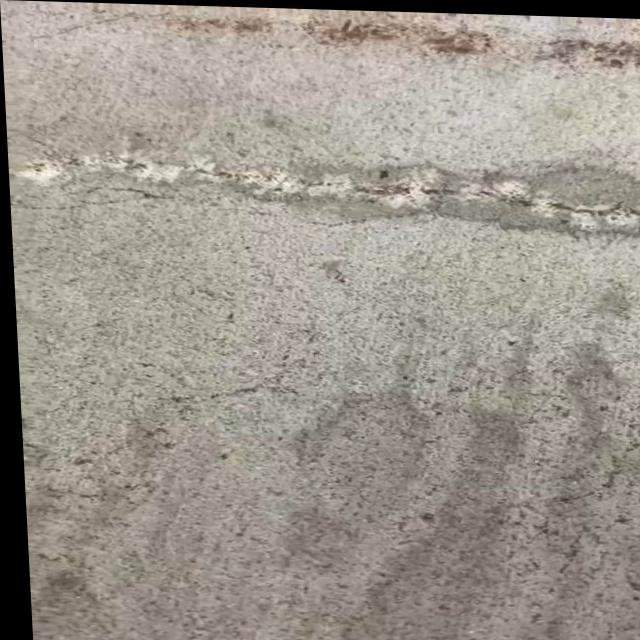Crack: (330, 168, 630, 222)
